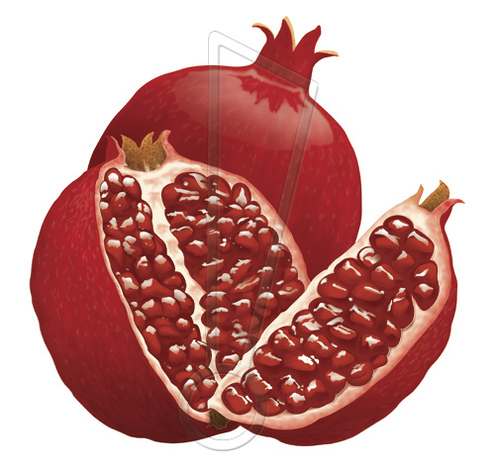pomogranate: (28, 128, 466, 445), (86, 16, 362, 275)
